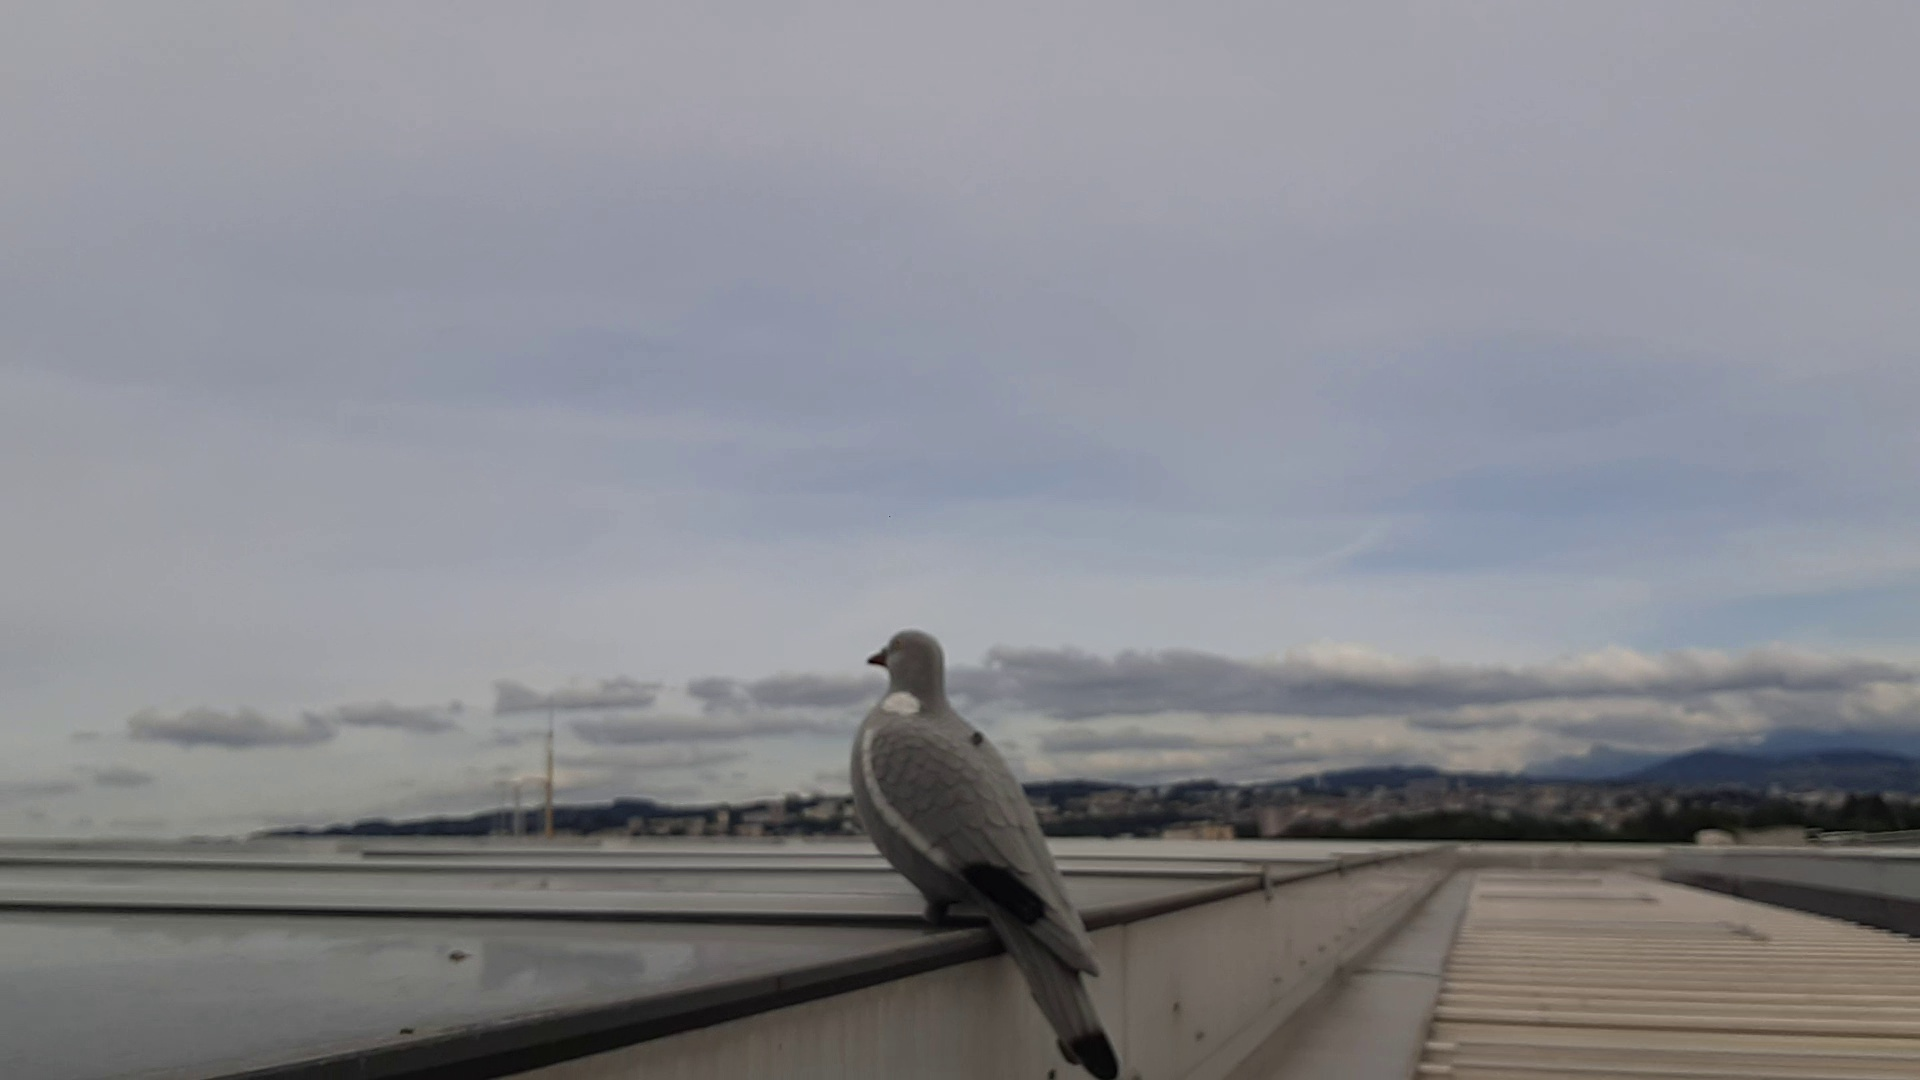Pigeon: (844, 615, 1121, 1048)
